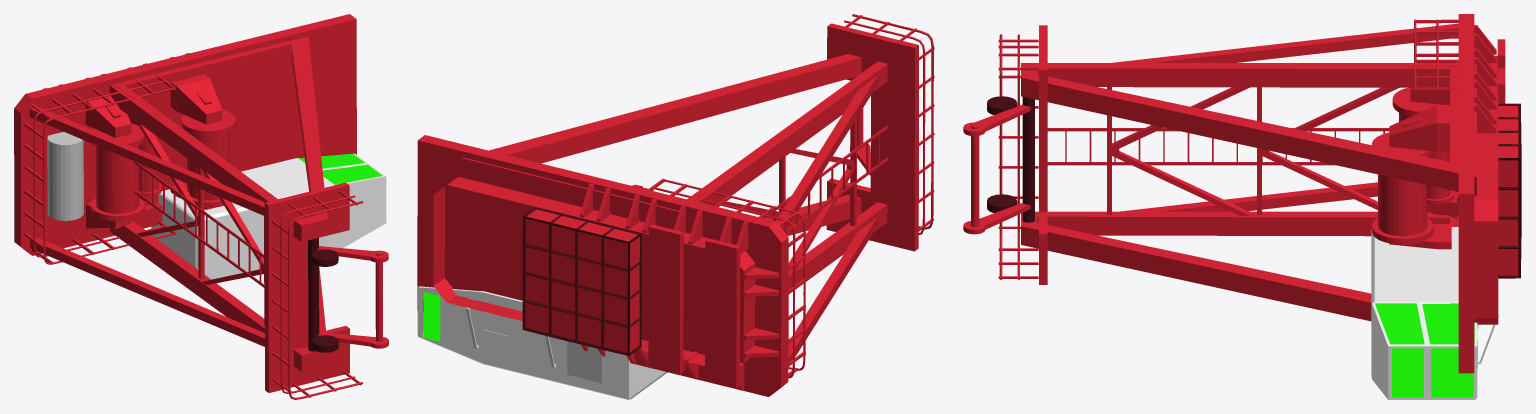
The model's file is crane_yaw.glb.
3 views of the same model, side by side, from view 1: azimuth 30°, elevation 25°; view 2: azimuth 150°, elevation 25°; view 3: azimuth 270°, elevation 25° (orthographic). The views are drawn at different scales.
Visible parts, largest first — view 1: crane_yaw; view 2: crane_yaw; view 3: crane_yaw.
Part boxes in pixels (x1,y1,x2,y2): crane_yaw: [14, 14, 388, 399]; crane_yaw: [417, 14, 934, 399]; crane_yaw: [963, 14, 1521, 399].
Size of the model in its own units: 7.59 by 4.48 by 9.56.
